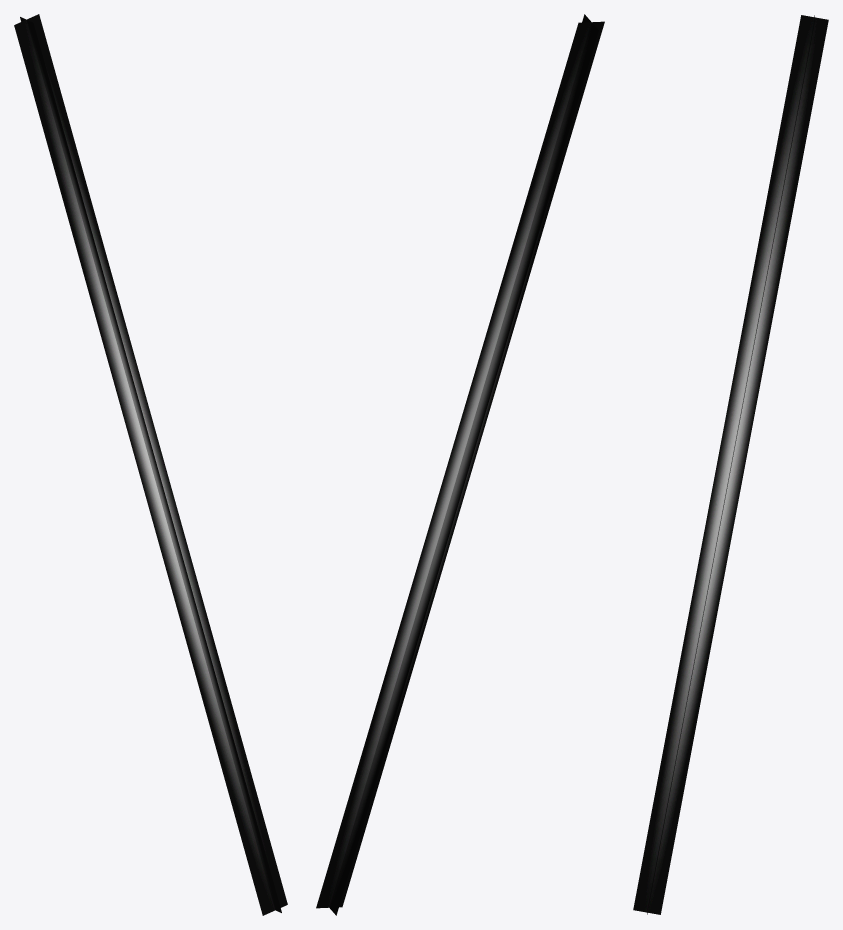
Rendered from vfx_kurp_0971.dae.
3 renders of one model, left to right at view 1: azimuth 30°, elevation 25°; view 2: azimuth 210°, elevation 25°; view 3: azimuth 270°, elevation 25°, orthographic. The views are drawn at different scales.
Parts seen in each view (by area): view 1: vfx_kurp_0971; view 2: vfx_kurp_0971; view 3: vfx_kurp_0971.
Part boxes in pixels (x1,y1,x2,y2): vfx_kurp_0971: (14, 14, 287, 915); vfx_kurp_0971: (316, 14, 604, 915); vfx_kurp_0971: (633, 15, 828, 914).
Bounding box in the file's own units: 1.93 × 1.85 × 8.64.
1 material, 1 textured.
